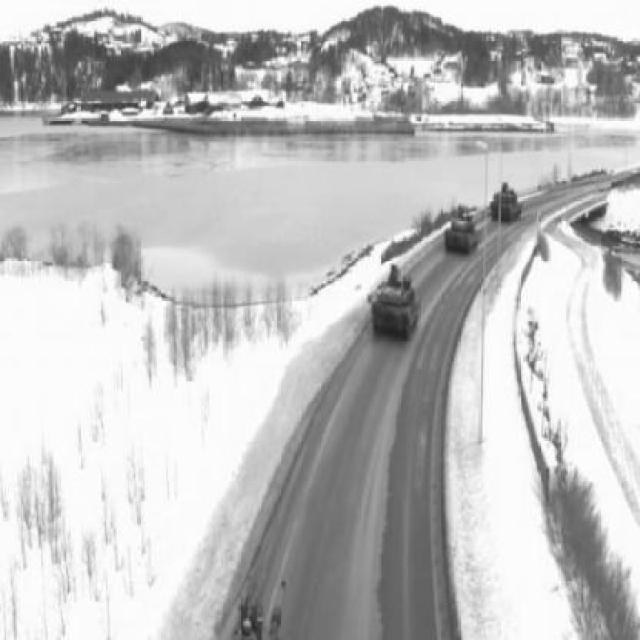Vehicle: (371, 267, 423, 343), (444, 213, 481, 260), (491, 184, 525, 221)
